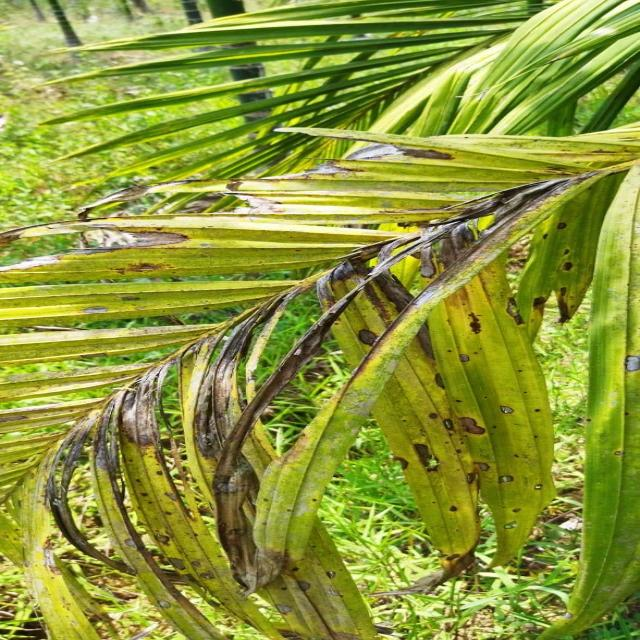Yellow_Leaf_Disease: (65, 169, 510, 553)
